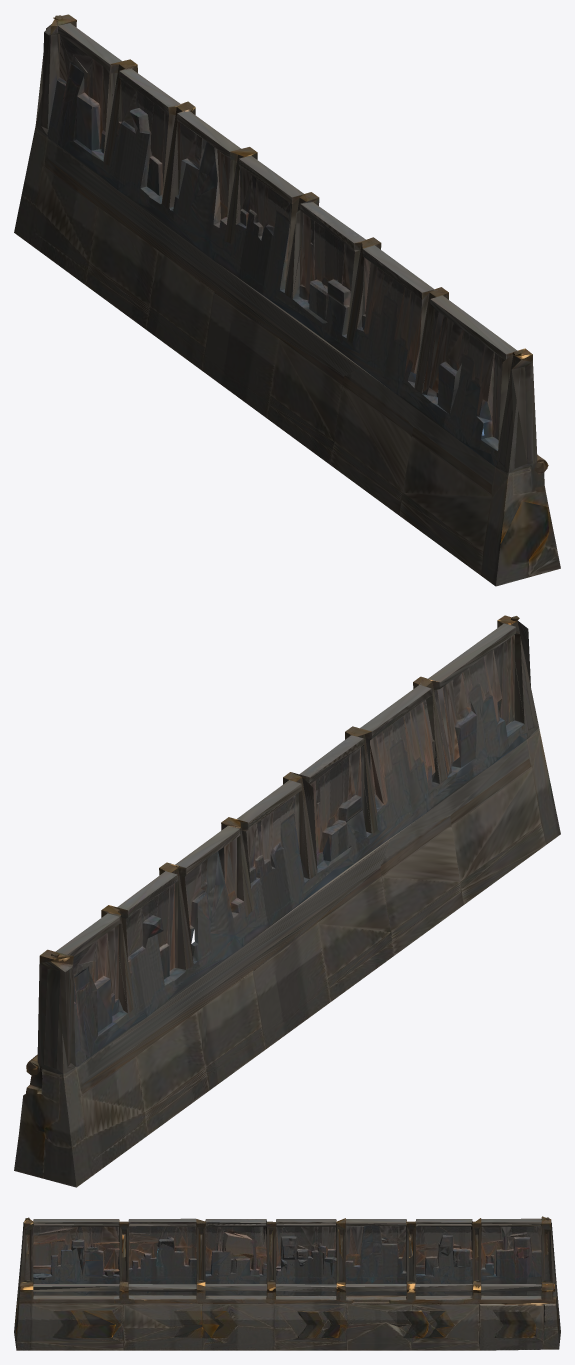
3 views of the same model, one above another, from view 1: azimuth 30°, elevation 25°; view 2: azimuth 150°, elevation 25°; view 3: azimuth 270°, elevation 25° (orthographic). The views are drawn at different scales.
Parts seen in each view (by area): view 1: u02; view 2: u02; view 3: u02.
Part boxes in pixels (x1,y1,x2,y2): u02: (14,14,560,586); u02: (14,615,560,1187); u02: (14,1216,560,1350).
Bounding box in the file's own units: 1.48 × 4.5 × 18.12.
1 material, 1 textured.
